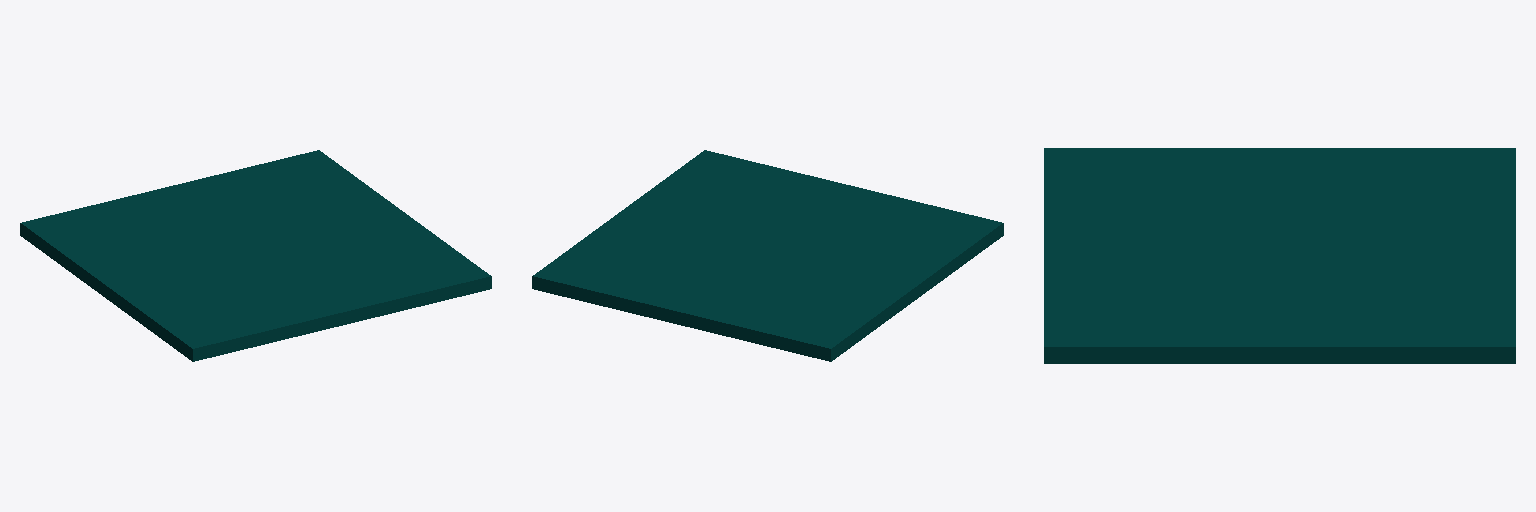
URDF robot description (table):
<robot name="table">
  <link name="table">

    <!-- rosrun gazebo_ros spawn_model -file $(rospack find ur5_single_arm_tufts)/urdf/objects/table.urdf -urdf -x 0.5 -y -0 -z 0.75 -model table -->
    
    <inertial>
      <origin xyz="0.23 0 0.755" rpy="0 0 0" />
      <mass value="1"/>
      <inertia
        ixx="0.07" ixy="0.0" ixz="0.0"
        iyy="0.40" iyz="0.0"
        izz="0.33"/>
    </inertial>

    <visual>
      <geometry>
        <box size="1.2 1.2 0.05"/>
      </geometry>
      <material name="Green">
        <color rgba="0.039 0.306 0.302 1"/>
      </material>
    </visual>

    <collision>
      <geometry>
        <box size="1.2 1.2 0.05"/>
      </geometry>
    </collision>

  </link>

  <gazebo reference="table">
    <material>Gazebo/Wood</material>
  </gazebo> 

  <gazebo>
    <static>true</static>
  </gazebo>

</robot>

--- What the picture shows (computed from the rendered views, not written in the file) ---
3 views of the same robot in one strip: view 1: azimuth 30°, elevation 25°; view 2: azimuth 150°, elevation 25°; view 3: azimuth 270°, elevation 25° (orthographic).
Robot: table — 1 links, 0 joints (none); root link table; default pose: every joint at zero.
Visible links, largest first — view 1: table; view 2: table; view 3: table.
Link boxes in pixels (x1,y1,x2,y2): table: (20, 150, 491, 361); table: (532, 150, 1003, 361); table: (1044, 148, 1515, 363).
Bounding box of the posed robot: 1.2 × 1.2 × 0.05 m (x, y, z).
Geometry: primitives only (box / cylinder / sphere), no mesh files.
